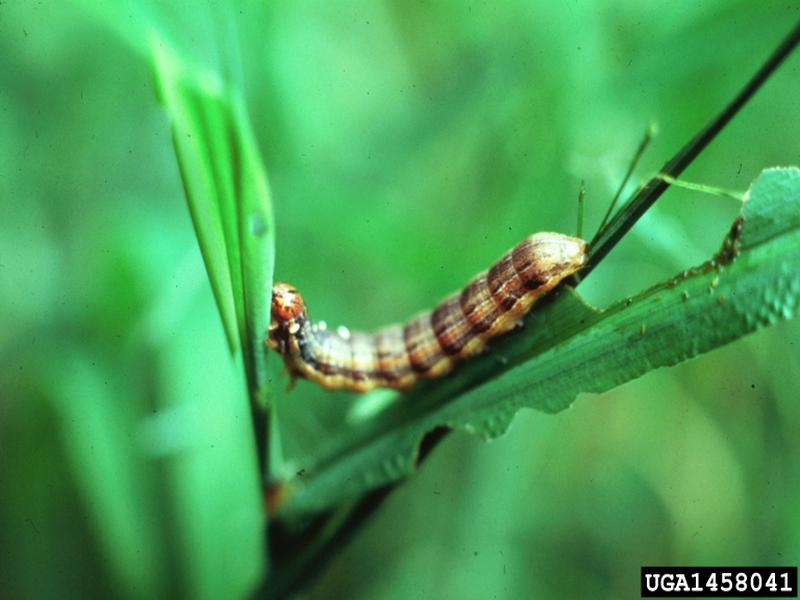Armyworms: (262, 225, 593, 394)
